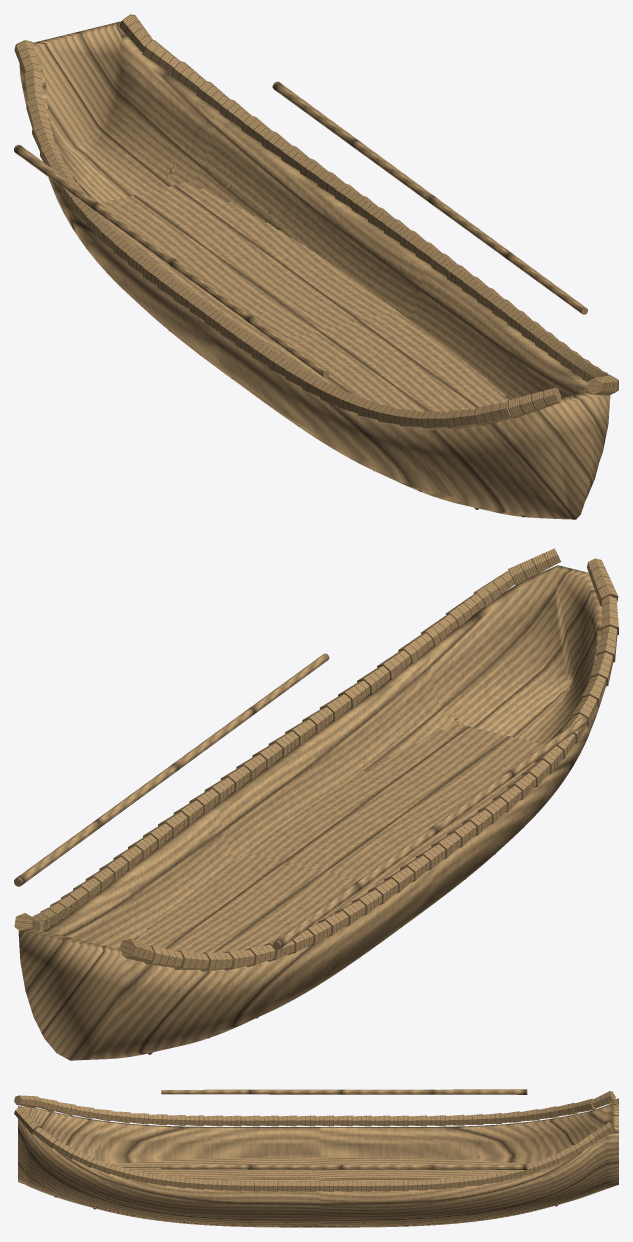
Rendered from ship.glb.
3 views of the same model, one above another, from view 1: azimuth 30°, elevation 25°; view 2: azimuth 150°, elevation 25°; view 3: azimuth 270°, elevation 25° (orthographic). The views are drawn at different scales.
Visible parts, largest first — view 1: Hull_shell, Cockpit_sole, Oar, Oar.001, Gunwale_31; view 2: Hull_shell, Cockpit_sole, Oar, Oar.001, Gunwale_31.001, Gunwale_31; view 3: Hull_shell, Cockpit_sole, Oar, Oar.001, Gunwale_31.001, Gunwale_31, Gunwale_0, Gunwale_30.001, Gunwale_1.001, Gunwale_1, Gunwale_29.001, Gunwale_0.001 (+17 smaller).
Part boxes in pixels (box(x1,y1,x2,y2)): Hull_shell: box(19, 21, 610, 519); Cockpit_sole: box(100, 182, 509, 412); Oar: box(14, 144, 329, 377); Oar.001: box(272, 81, 587, 314); Gunwale_31: box(507, 388, 561, 418); Hull_shell: box(18, 565, 601, 1060); Cockpit_sole: box(135, 723, 544, 953); Oar: box(272, 716, 587, 949); Oar.001: box(14, 653, 329, 886); Gunwale_31.001: box(508, 548, 560, 584); Gunwale_31: box(587, 558, 618, 605); Hull_shell: box(18, 1098, 618, 1227); Cockpit_sole: box(112, 1158, 526, 1181); Oar: box(161, 1089, 527, 1094); Oar.001: box(161, 1164, 527, 1169); Gunwale_31.001: box(14, 1107, 40, 1134); Gunwale_31: box(14, 1095, 40, 1107); Gunwale_0: box(592, 1091, 615, 1108); Gunwale_30.001: box(33, 1127, 58, 1148); Gunwale_1.001: box(574, 1133, 597, 1153); Gunwale_1: box(573, 1098, 596, 1112); Gunwale_29.001: box(52, 1140, 76, 1159); Gunwale_0.001: box(592, 1121, 615, 1140).
Size of the model in its own units: 1.65 by 1.17 by 5.45.
4 materials, 4 textured.
